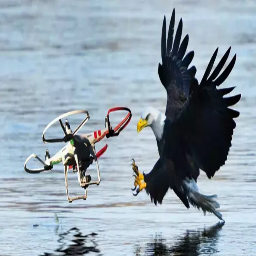Bird: (131, 8, 241, 230)
UAV: (22, 101, 129, 206)
